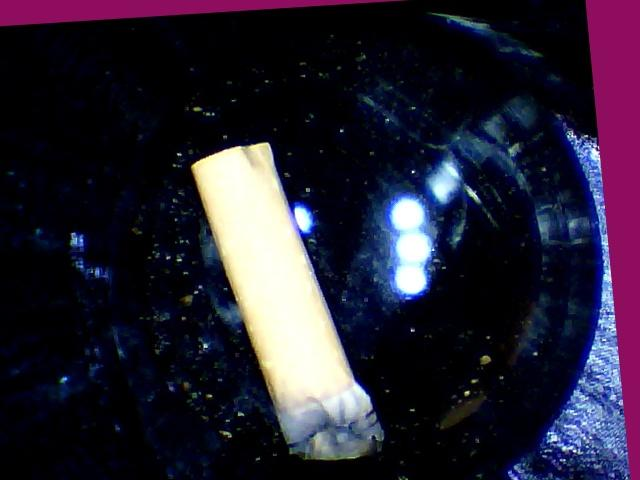megot: (174, 120, 403, 474)
